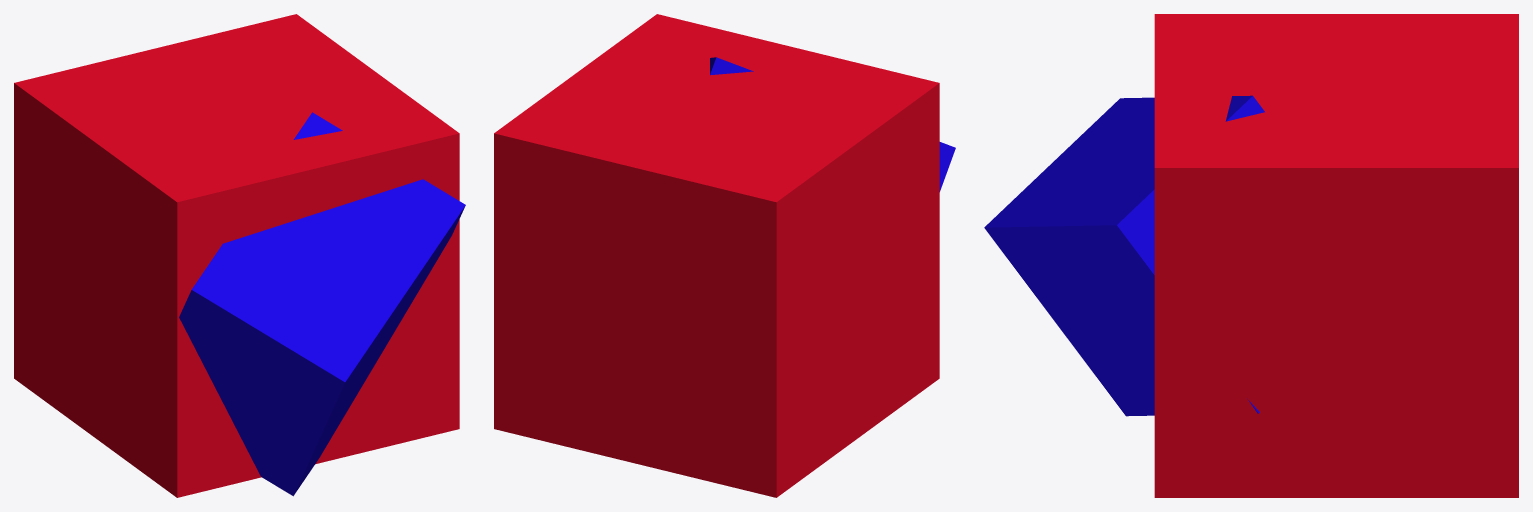
The picture shows the model from 3 angles, left to right: view 1: azimuth 30°, elevation 25°; view 2: azimuth 150°, elevation 25°; view 3: azimuth 270°, elevation 25°; orthographic projection. The views are drawn at different scales.
Parts seen in each view (by area): view 1: Cube, Cube.001; view 2: Cube, Cube.001; view 3: Cube, Cube.001.
Boxes of the visible parts, x1,y1,x2,y2 form: Cube: (14, 14, 459, 497); Cube.001: (179, 112, 465, 496); Cube: (494, 14, 939, 497); Cube.001: (710, 57, 955, 191); Cube: (1154, 14, 1518, 497); Cube.001: (984, 95, 1264, 416).
Size of the model in its own units: 2.01 by 2.19 by 2.94.
